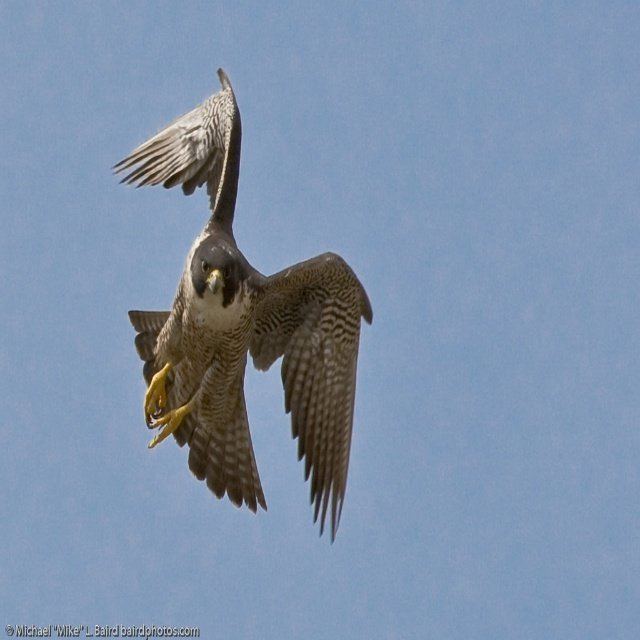Eagle: (108, 62, 374, 545)
